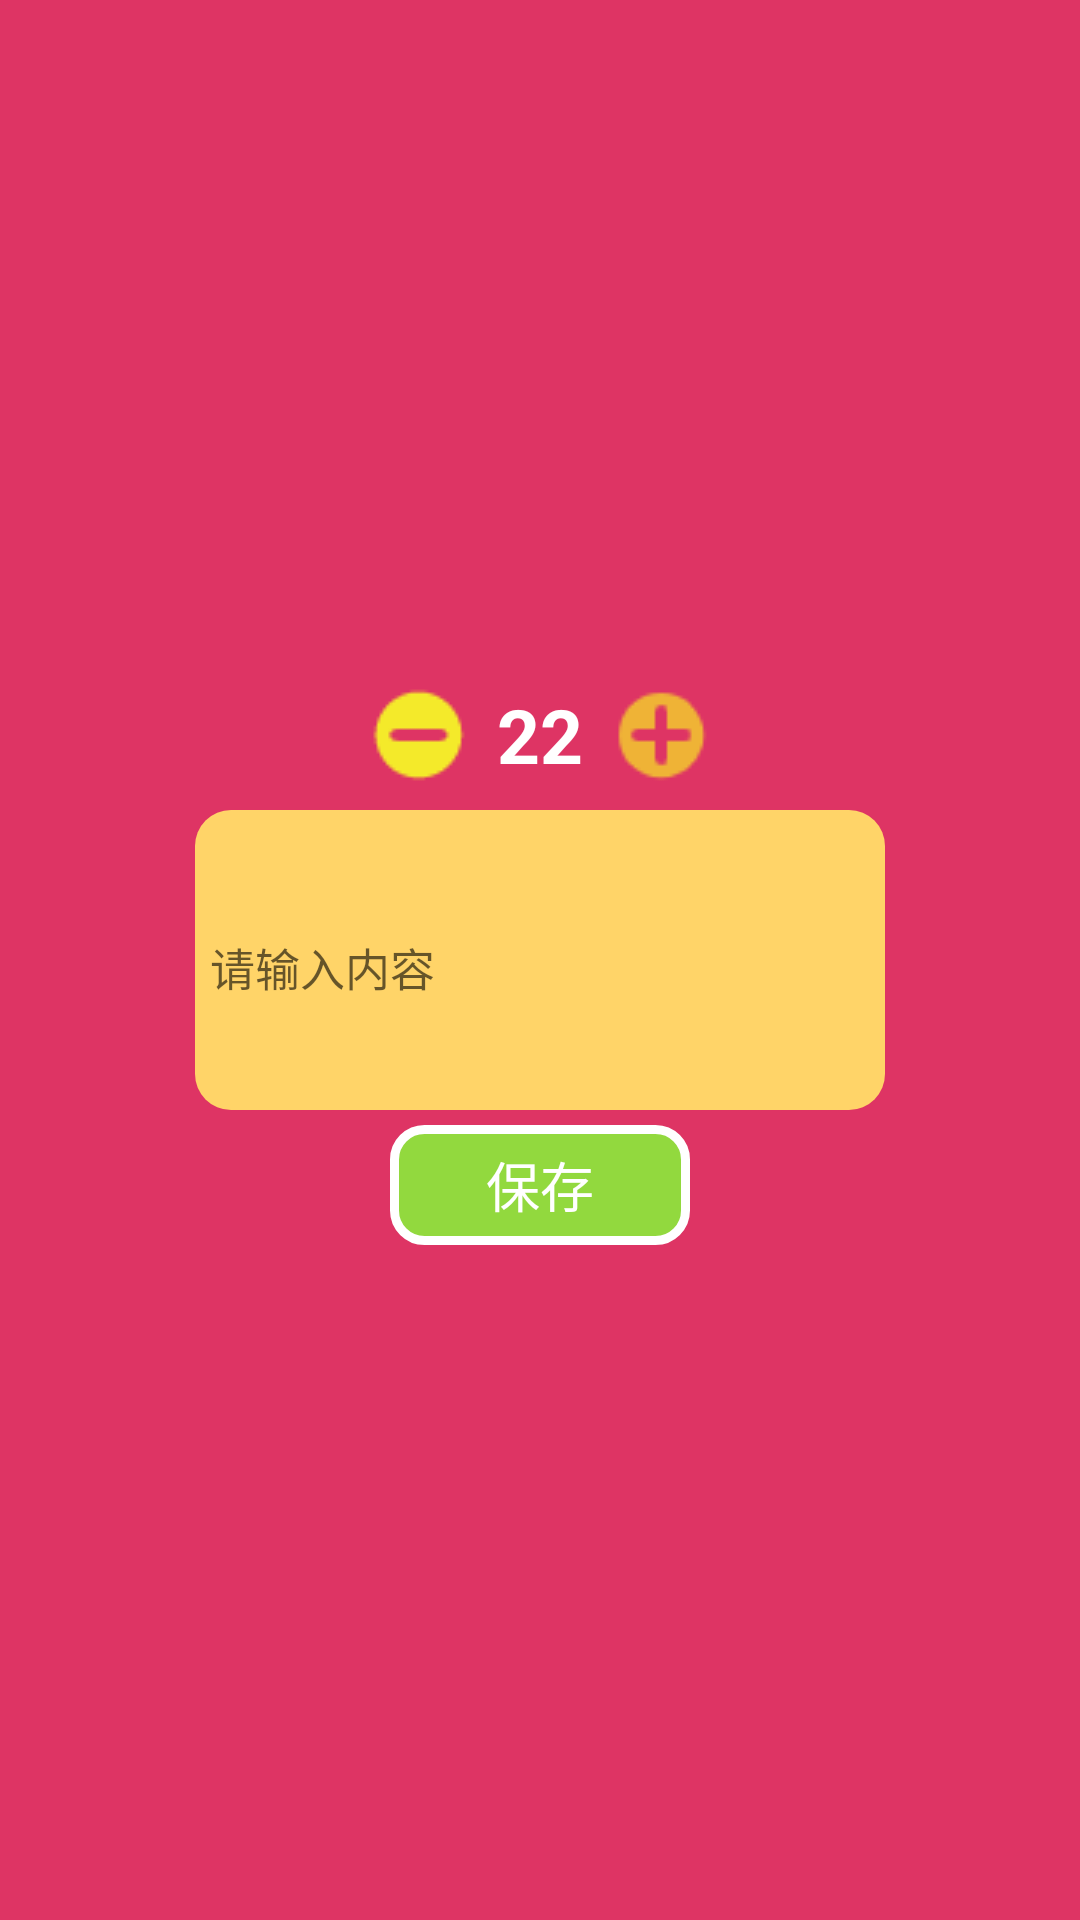

Screen size 1080×1920. Icon name, then its box in pixels as rect(x1, y1, x2, y2):
add: rect(618, 692, 705, 779)
